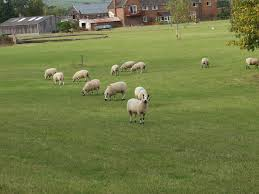sheep: (127, 93, 151, 122), (105, 82, 129, 101), (81, 78, 102, 95), (72, 70, 94, 84), (133, 86, 151, 103), (116, 57, 138, 69), (51, 73, 68, 86), (244, 55, 259, 69), (110, 64, 125, 77), (131, 61, 144, 74), (43, 66, 58, 77), (200, 58, 212, 70)
